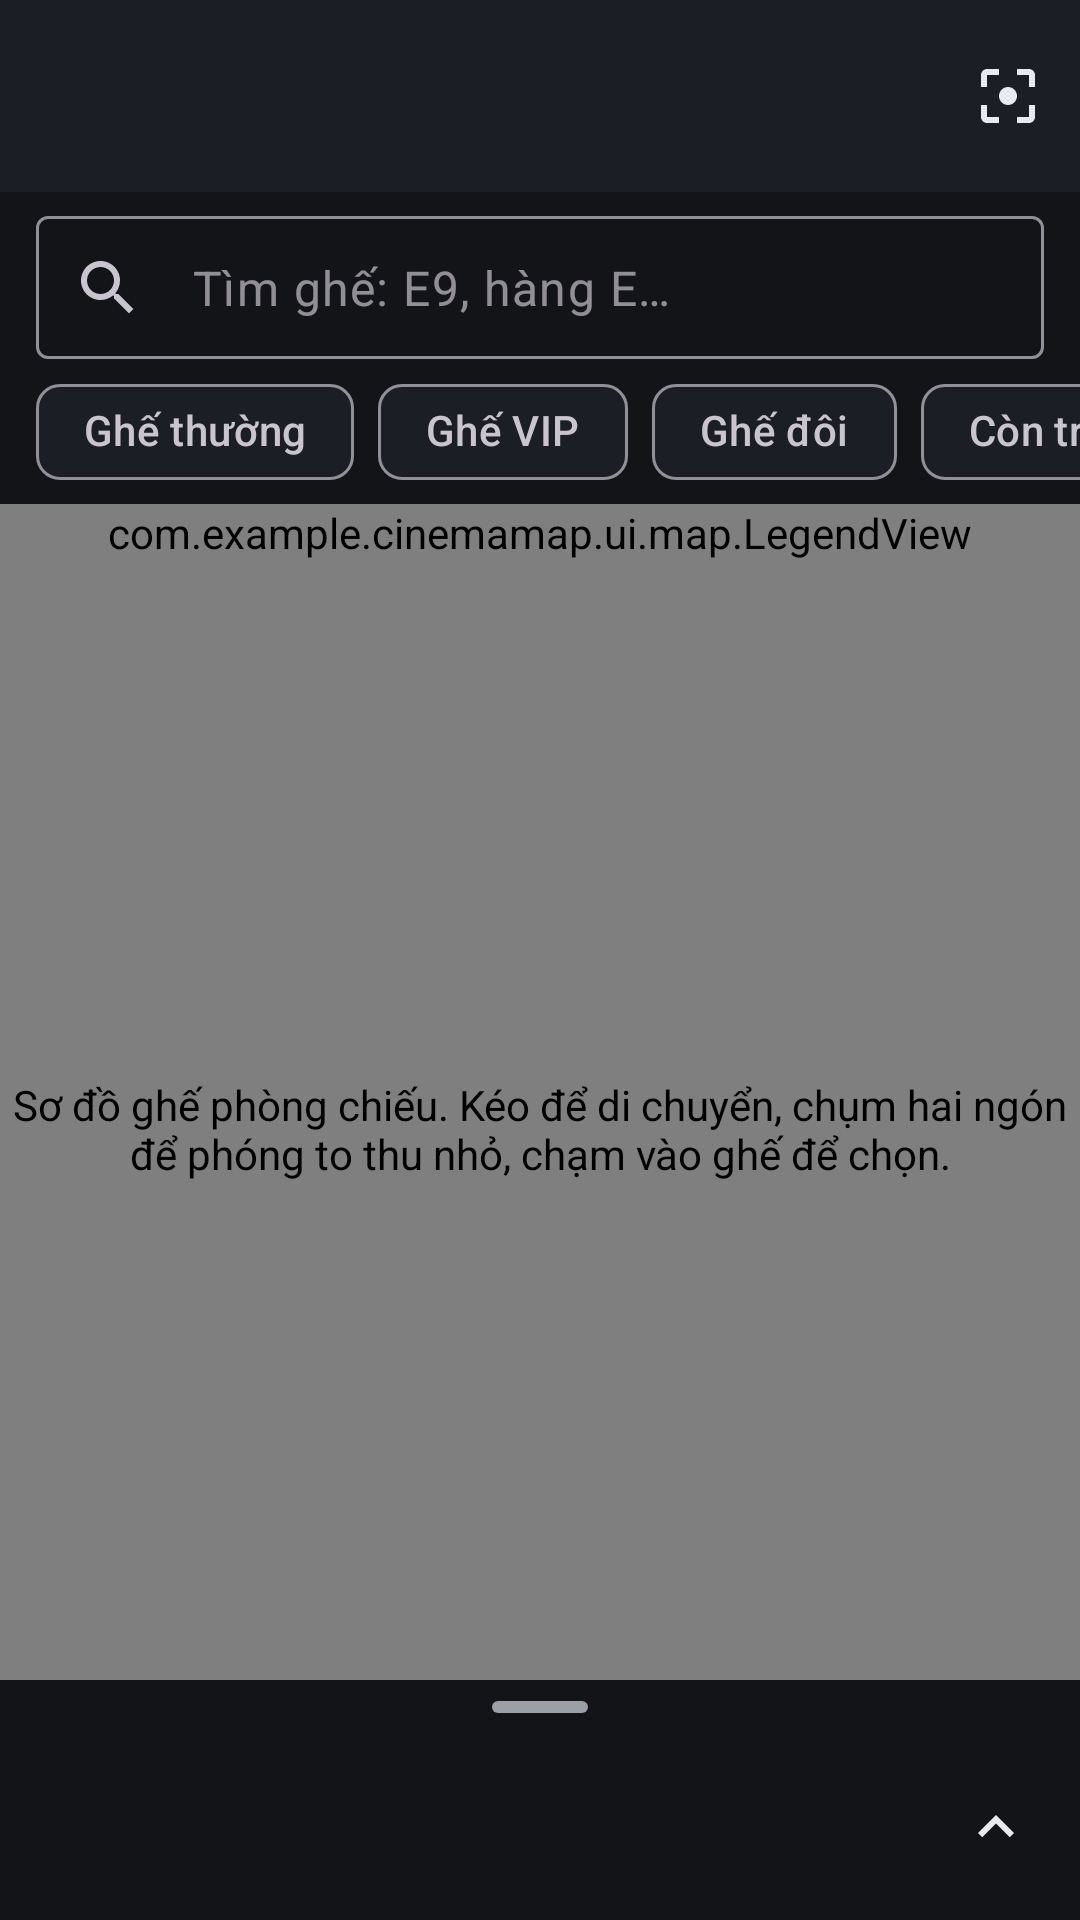

Where icons sit on this 1080*1920 app screen, as (x1, y1, x2, y2):
Mở rộng danh sách ghế đã chọn: (978, 1815, 1014, 1837)
